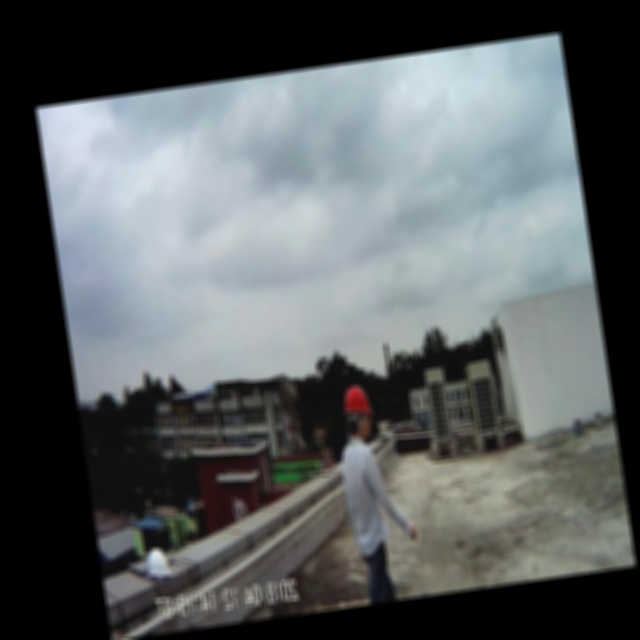Con_Casco: (342, 382, 375, 439)
Sin_Chaleco: (337, 436, 388, 551)
